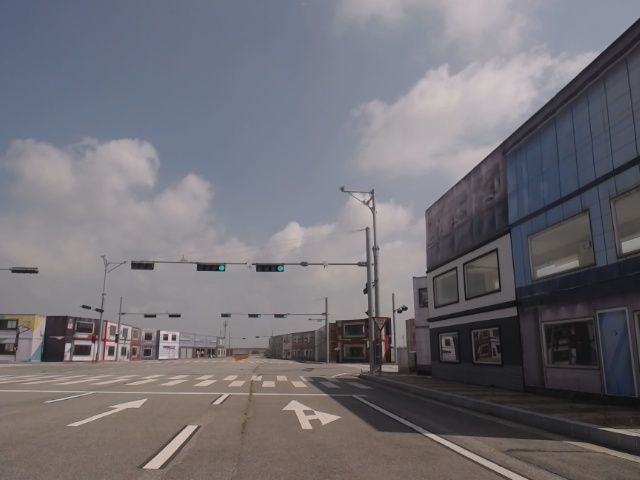straight_green_4: (197, 263, 227, 272), (254, 263, 284, 272)
